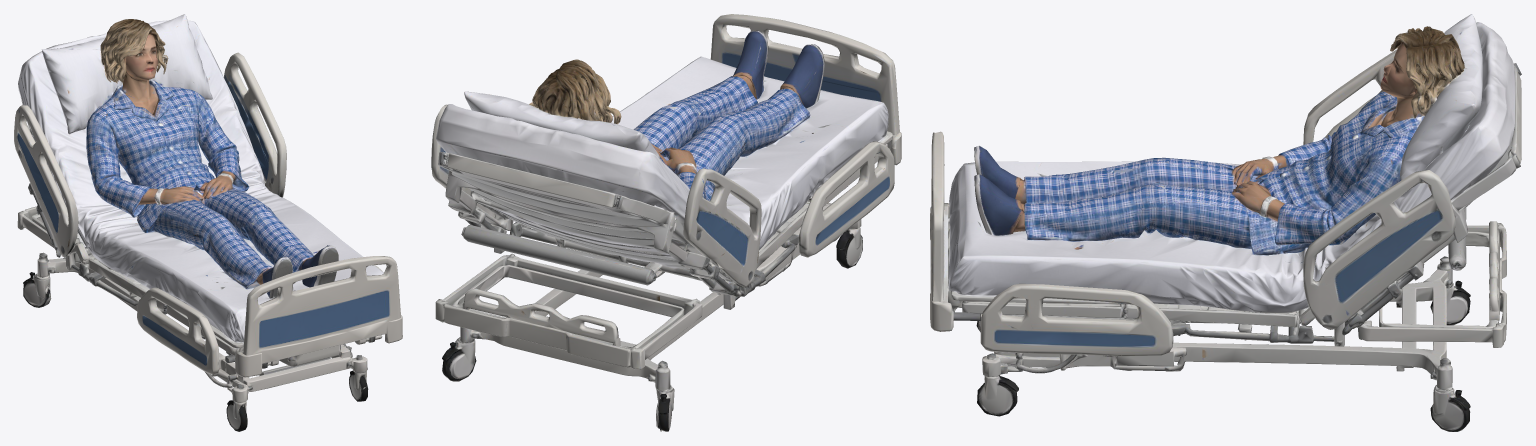
3 renders of one model, left to right at view 1: azimuth 30°, elevation 25°; view 2: azimuth 150°, elevation 25°; view 3: azimuth 270°, elevation 25°, orthographic. The views are drawn at different scales.
Visible parts, largest first — view 1: f2; view 2: f2; view 3: f2.
Part boxes in pixels (x1,y1,x2,y2): f2: (14,14,402,431); f2: (431,14,901,431); f2: (930,14,1521,431).
Size of the model in its own units: 1.05 by 1.24 by 1.9.
Materials: 1 (1 with a texture image).
